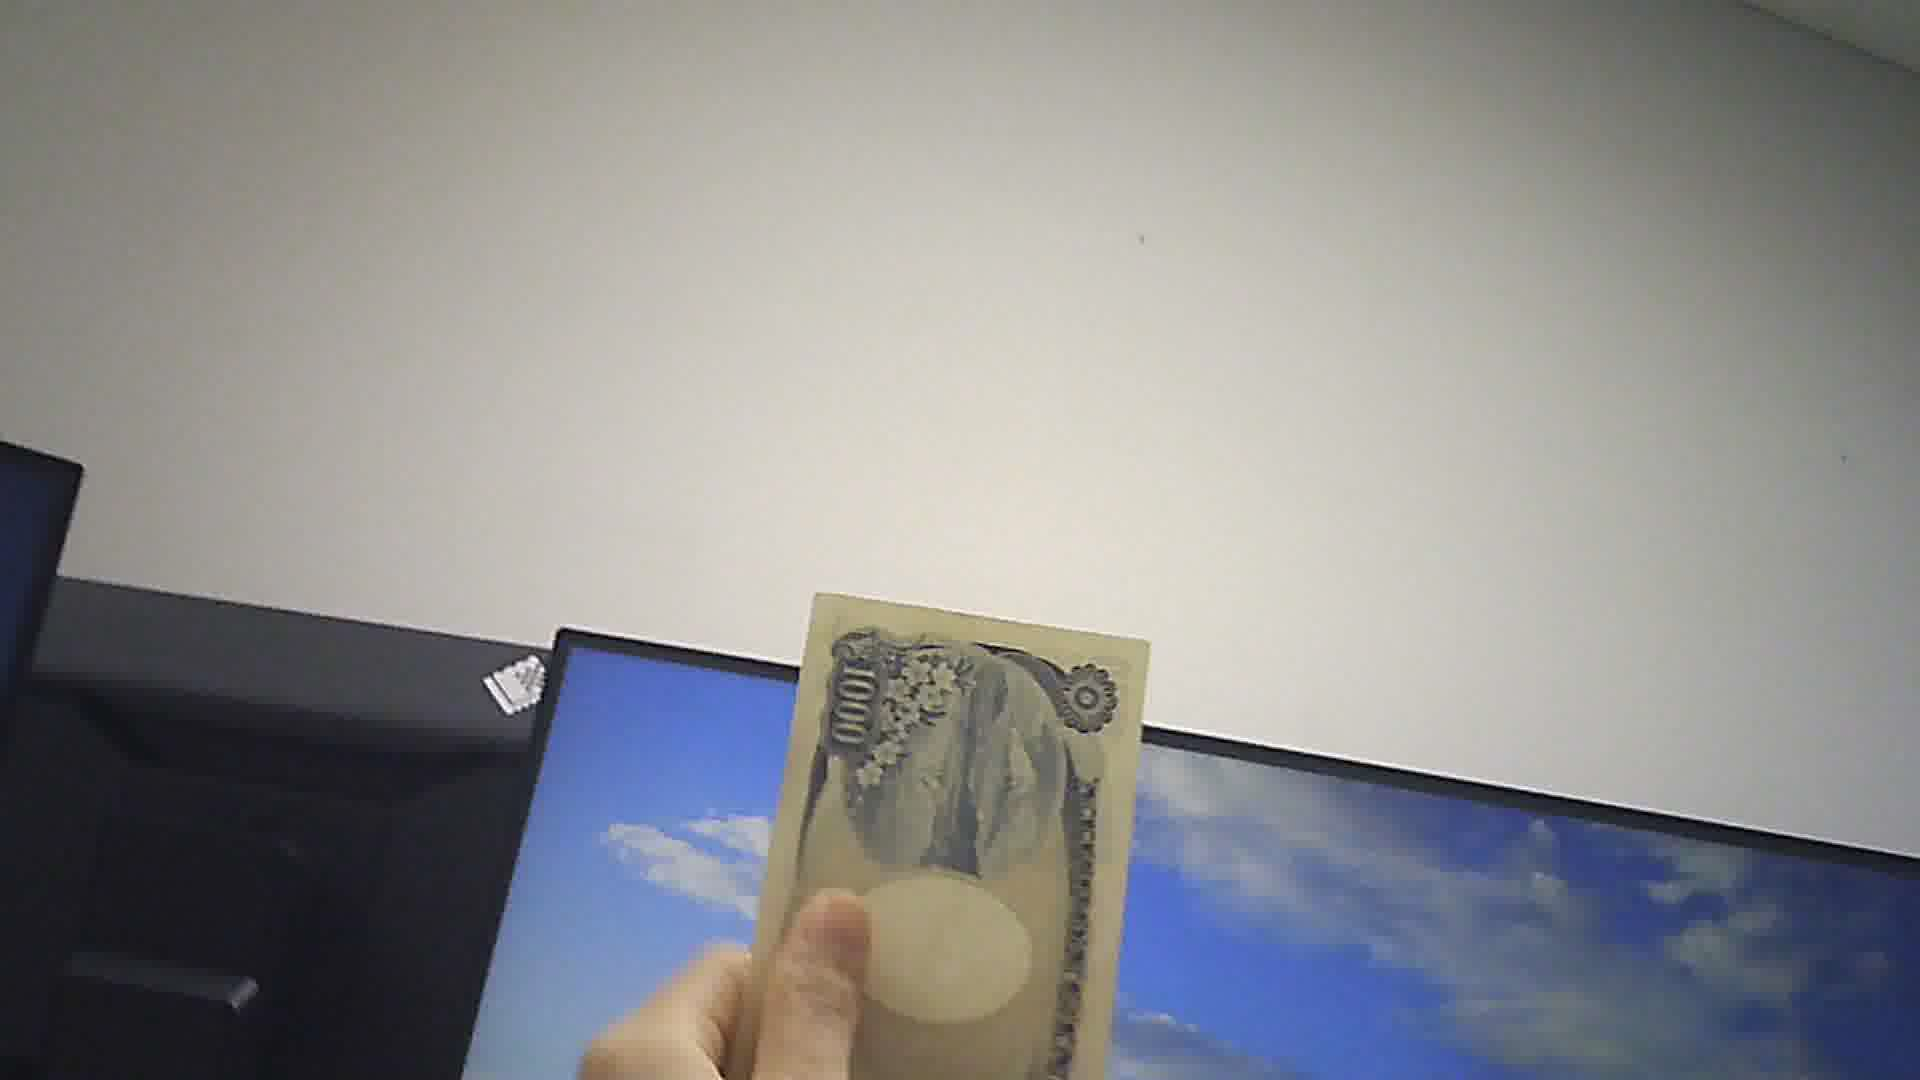1,000 Yen: (741, 578, 1159, 1079)
